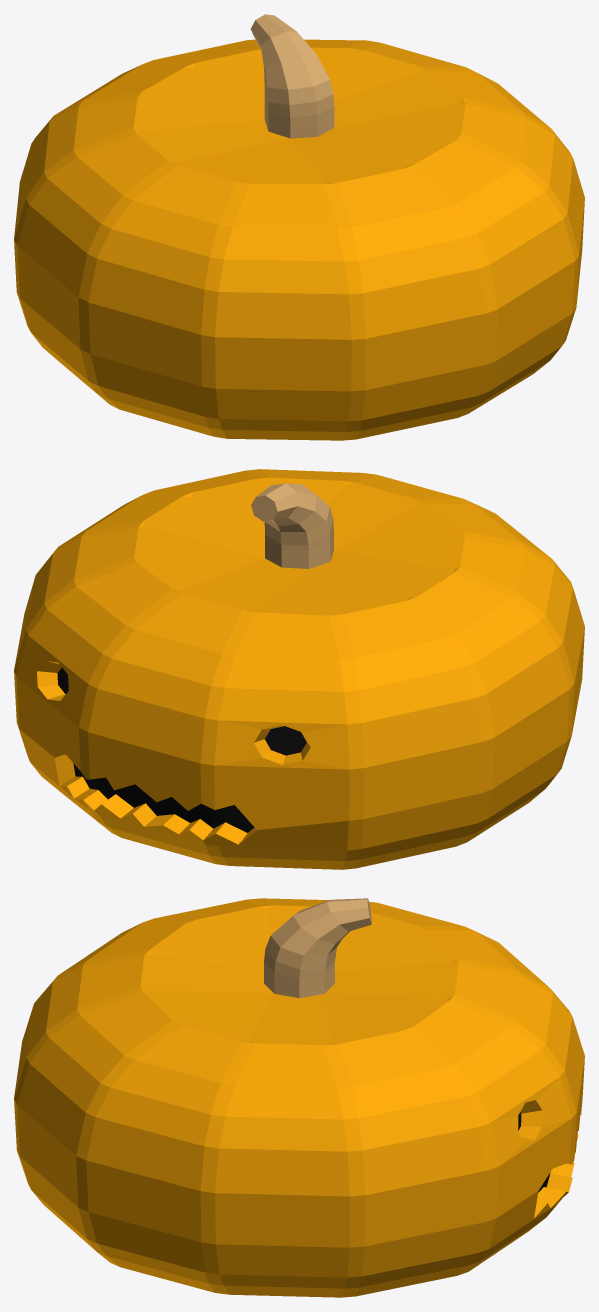
Rendered from pumpkin1.glb.
3 views of the same model, one above another, from view 1: azimuth 30°, elevation 25°; view 2: azimuth 150°, elevation 25°; view 3: azimuth 270°, elevation 25° (orthographic).
Visible parts, largest first — view 1: FacePumpkin; view 2: FacePumpkin; view 3: FacePumpkin.
Part boxes in pixels (bbox=[...]): FacePumpkin: bbox=[14, 14, 584, 440]; FacePumpkin: bbox=[14, 469, 584, 869]; FacePumpkin: bbox=[14, 898, 584, 1297].
Bounding box in the file's own units: 1.42 × 0.8483 × 1.44.
1 material, 1 textured.
